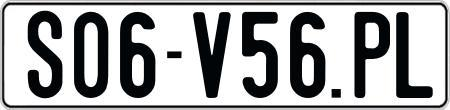0: (73, 11, 107, 101)
5: (242, 10, 283, 96)
6: (287, 11, 327, 98), (120, 10, 159, 99)
L: (396, 9, 432, 101)
P: (351, 12, 389, 101)
S: (25, 11, 63, 101)
V: (193, 10, 231, 101)
